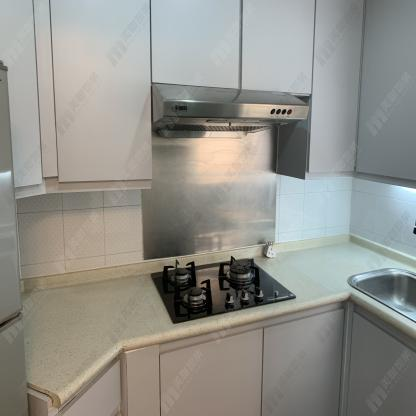Cupboard: (0, 3, 416, 187), (120, 302, 416, 414), (149, 2, 316, 93)
Exhaust Hood: (151, 81, 310, 139), (152, 84, 309, 140)
Sink: (347, 267, 414, 321)
Stove: (138, 247, 318, 342), (150, 254, 297, 324)
